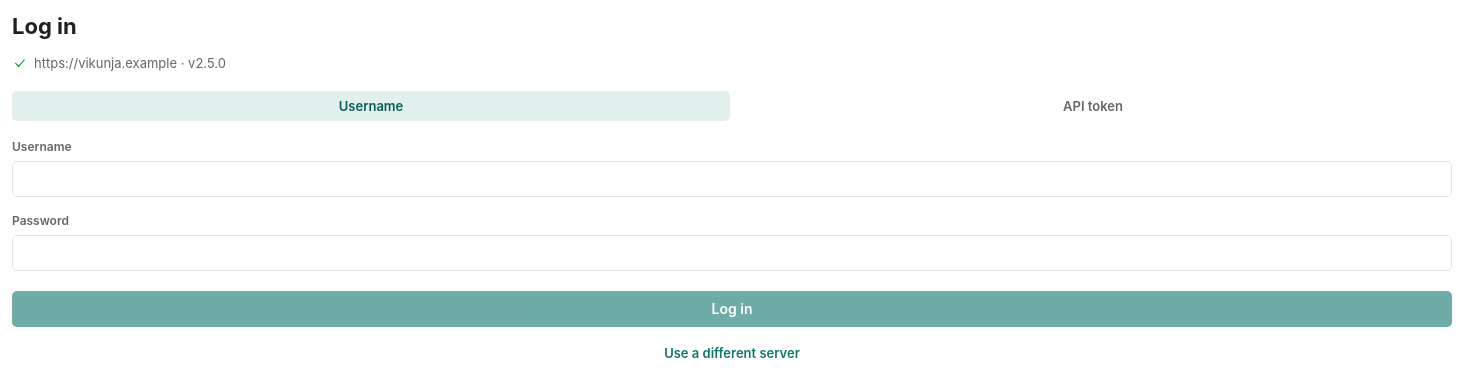
Test: LoginStep — the submit guard › retains the form after a 401 rejection
This screenshot has width=1464, height=375.
Click the button "API token" at (1093, 106), box [734,91,1452,121]
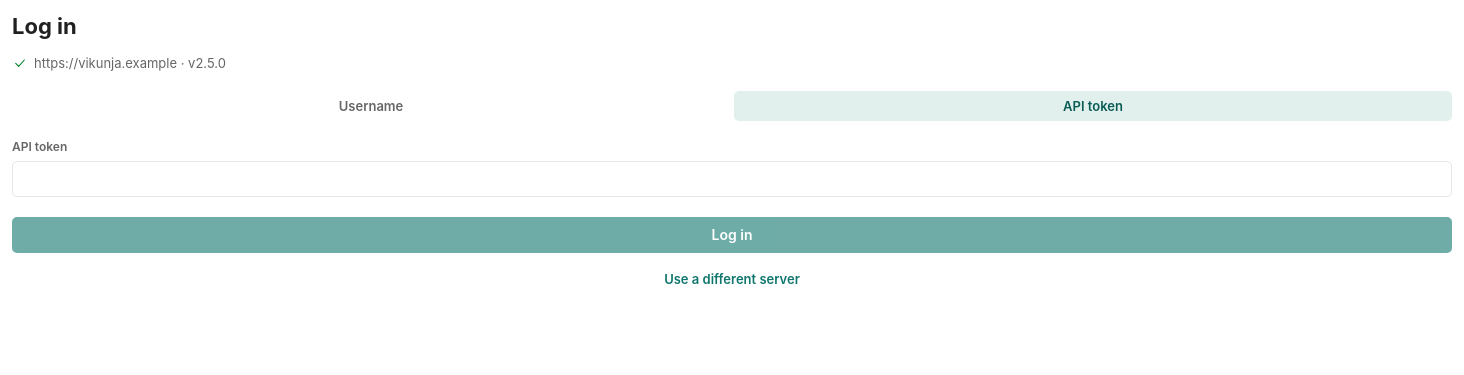
Type "tk_candidate" into the password field labelled "API token" at (732, 179), box [12,161,1452,197]
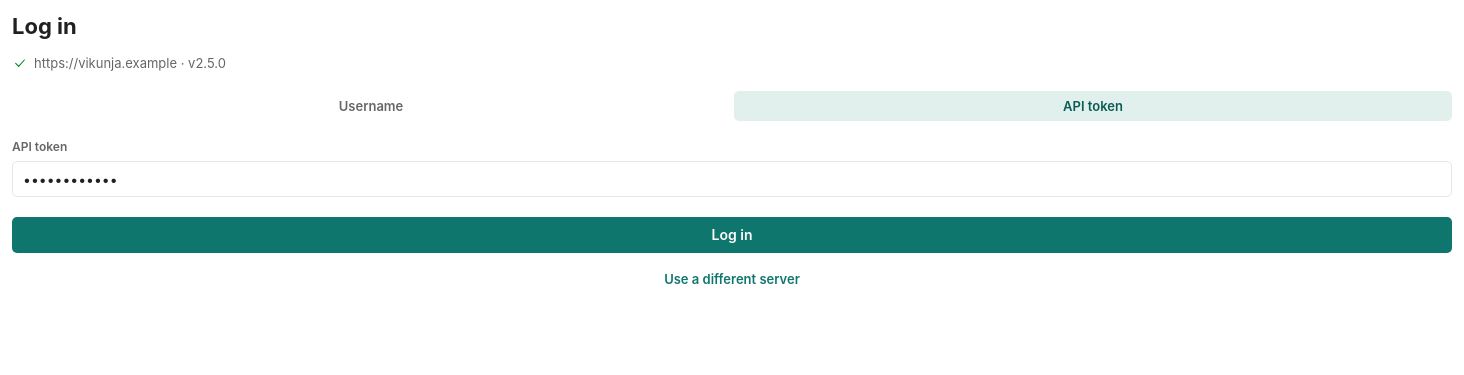
Submit the form "Log in"
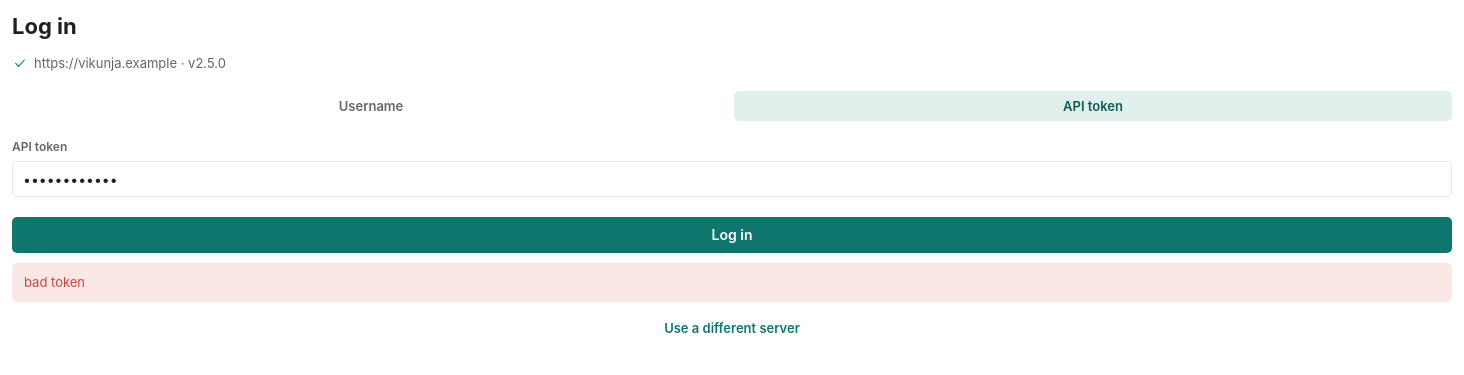
Check: the button "Log in" is enabled, box [12,217,1452,253]
Check: the text "bad token" is shown, box [12,263,1452,302]
